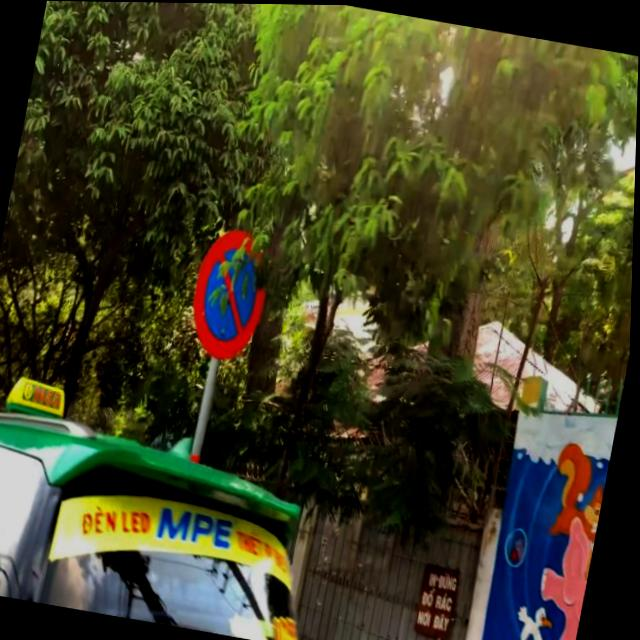Cam do xe: (186, 224, 279, 366)
